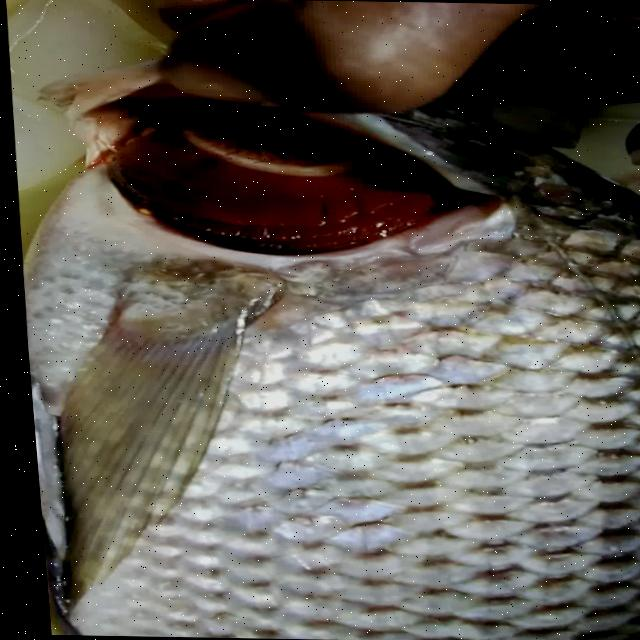Fresh: (62, 106, 532, 276)
